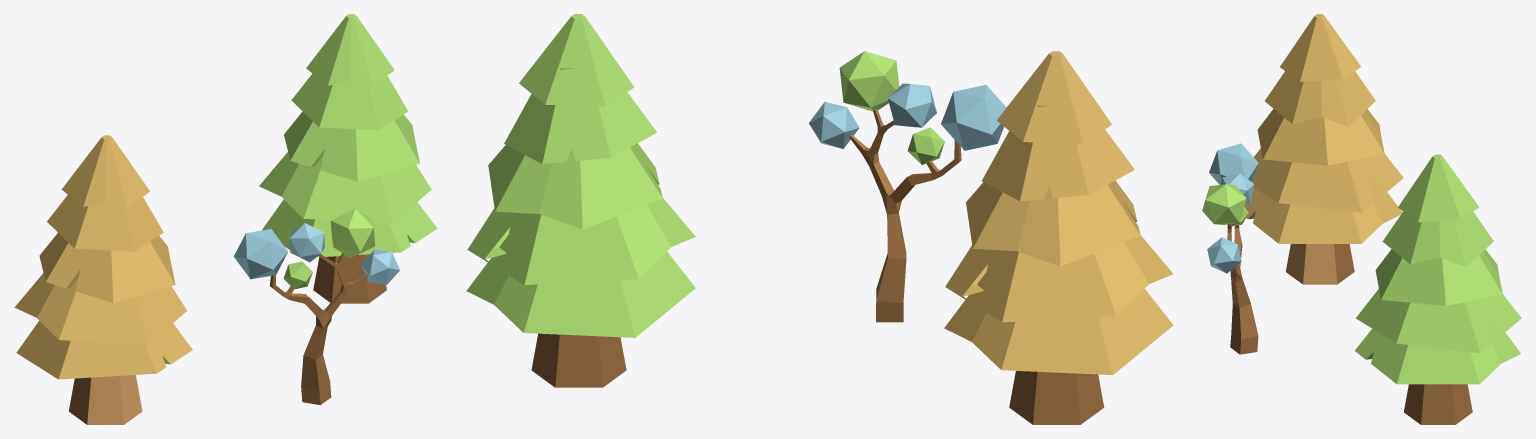
The model's file is trees.glb.
3 views of the same model, side by side, from view 1: azimuth 30°, elevation 25°; view 2: azimuth 150°, elevation 25°; view 3: azimuth 270°, elevation 25° (orthographic). The views are drawn at different scales.
Visible parts, largest first — view 1: Cylinder.001, Cylinder, Icosphere.002; view 2: Cylinder, Cylinder.001, Icosphere.002; view 3: Cylinder, Cylinder.001, Icosphere.002.
Part boxes in pixels (x1,y1,x2,y2): Cylinder.001: (14, 135, 192, 424); Cylinder: (259, 14, 437, 303); Icosphere.002: (234, 208, 399, 405); Cylinder: (466, 14, 695, 387); Cylinder.001: (944, 51, 1173, 424); Icosphere.002: (809, 51, 1006, 322); Cylinder: (1355, 154, 1521, 424); Cylinder.001: (1244, 14, 1403, 284); Icosphere.002: (1202, 143, 1258, 354).
Bounding box in the file's own units: 2.7 × 1.6 × 1.8.
